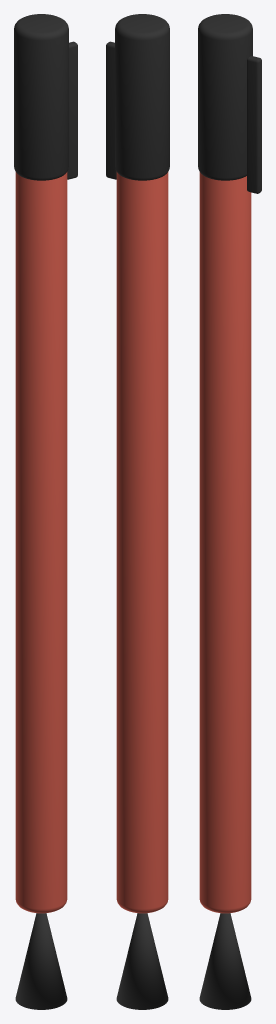
Rendered from pen.glb.
3 renders of one model, left to right at view 1: azimuth 30°, elevation 25°; view 2: azimuth 150°, elevation 25°; view 3: azimuth 330°, elevation 25°, orthographic.
Visible parts, largest first — view 1: barrel, cap, tip, clip; view 2: barrel, cap, tip, clip; view 3: barrel, cap, tip, clip.
Boxes of the visible parts, <box> form: barrel: <box>15,172,67,913</box>; cap: <box>14,14,68,180</box>; tip: <box>15,913,67,1009</box>; clip: <box>67,41,77,179</box>; barrel: <box>116,172,168,913</box>; cap: <box>115,14,169,180</box>; tip: <box>116,913,168,1009</box>; clip: <box>106,41,116,179</box>; barrel: <box>199,172,251,913</box>; cap: <box>198,14,252,180</box>; tip: <box>199,913,251,1009</box>; clip: <box>247,56,261,193</box>.
Size of the model in its own units: 0.092 by 1.45 by 0.074.
